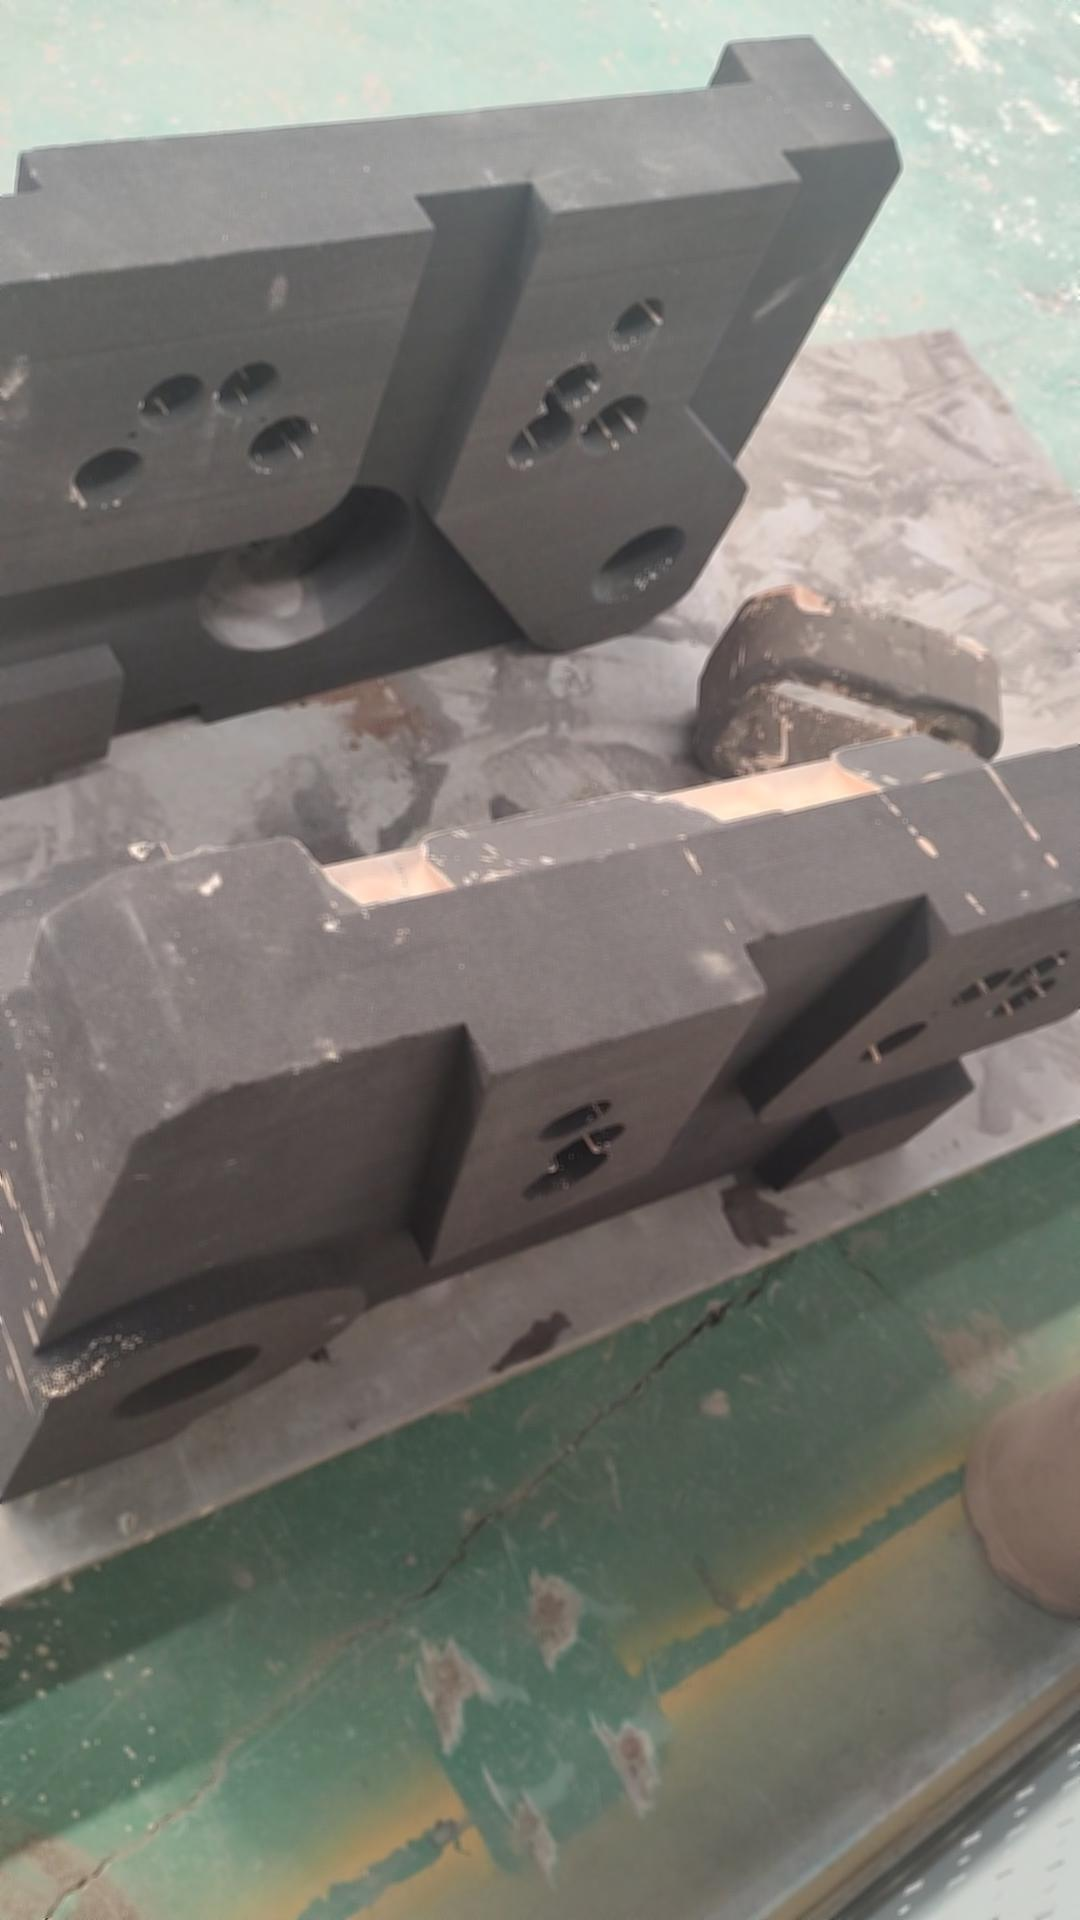pouring hole: (108, 1342, 260, 1419), (591, 525, 684, 607)
